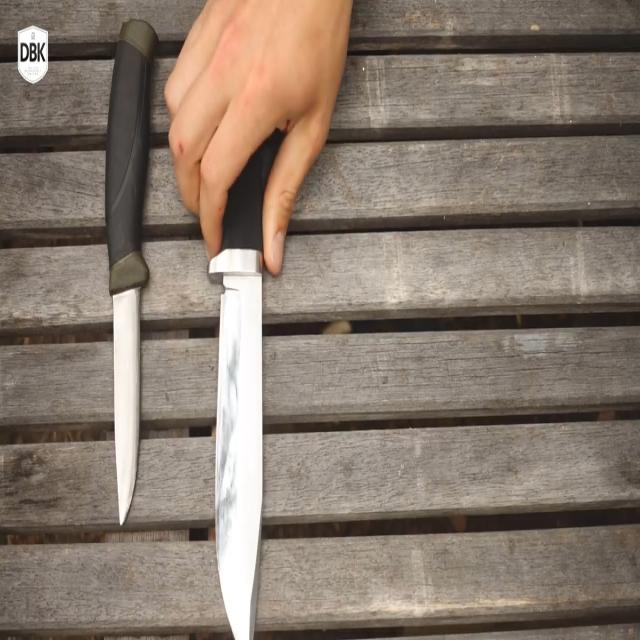knife: (102, 22, 161, 528), (215, 183, 272, 640)
